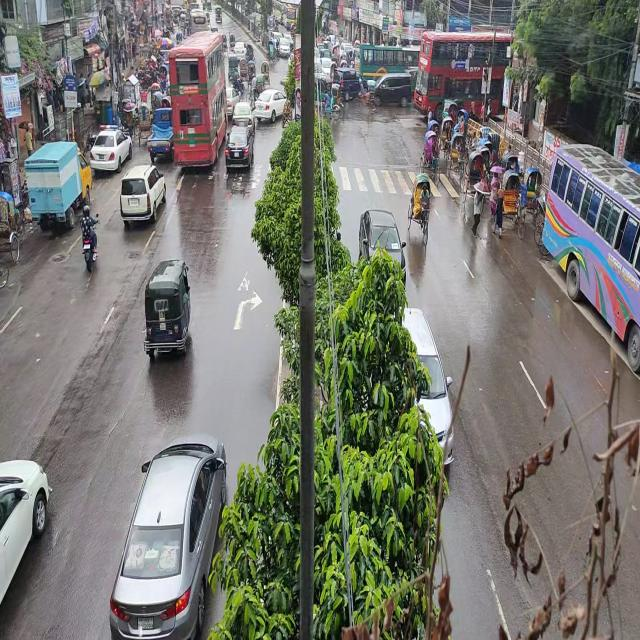black: (227, 123, 255, 175)
silver: (110, 433, 226, 640)
white: (118, 166, 168, 221)
